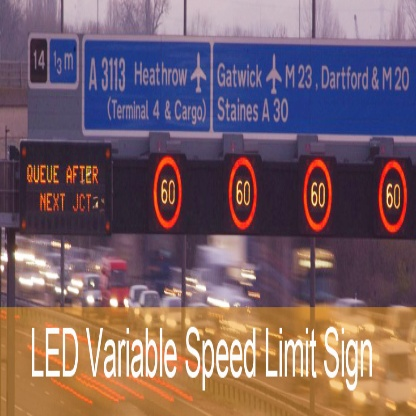limit2: (221, 156, 262, 232), (149, 153, 187, 231), (300, 157, 338, 235), (377, 158, 410, 238)
